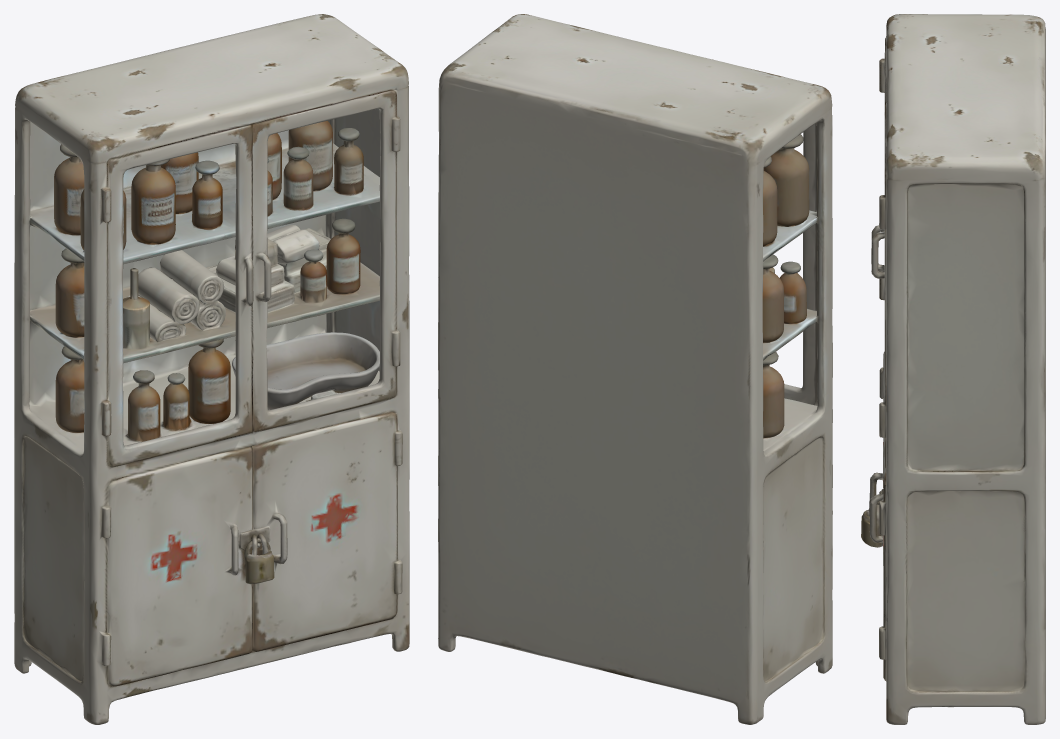
The model's file is silo81_medcab.glb.
3 views of the same model, side by side, from view 1: azimuth 30°, elevation 25°; view 2: azimuth 150°, elevation 25°; view 3: azimuth 270°, elevation 25° (orthographic). The views are drawn at different scales.
Parts seen in each view (by area): view 1: tripo_node_4e72fde9-d7fd-436e-9374-7fdc290ef384; view 2: tripo_node_4e72fde9-d7fd-436e-9374-7fdc290ef384; view 3: tripo_node_4e72fde9-d7fd-436e-9374-7fdc290ef384.
Part boxes in pixels (x1,y1,x2,y2): tripo_node_4e72fde9-d7fd-436e-9374-7fdc290ef384: (14,14,409,724); tripo_node_4e72fde9-d7fd-436e-9374-7fdc290ef384: (438,14,832,724); tripo_node_4e72fde9-d7fd-436e-9374-7fdc290ef384: (861,14,1045,724).
Size of the model in its own units: 0.5609 by 0.9795 by 0.2903.
Materials: 1 (1 with a texture image).
